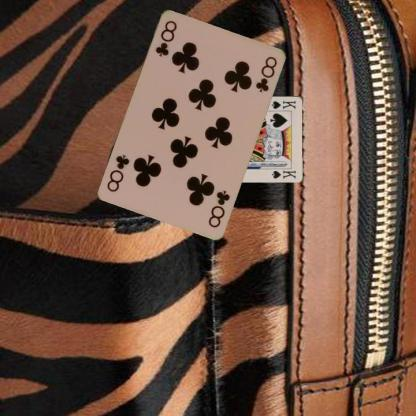8c: (205, 186, 231, 228), (152, 17, 178, 58)
Ks: (269, 98, 298, 110)
